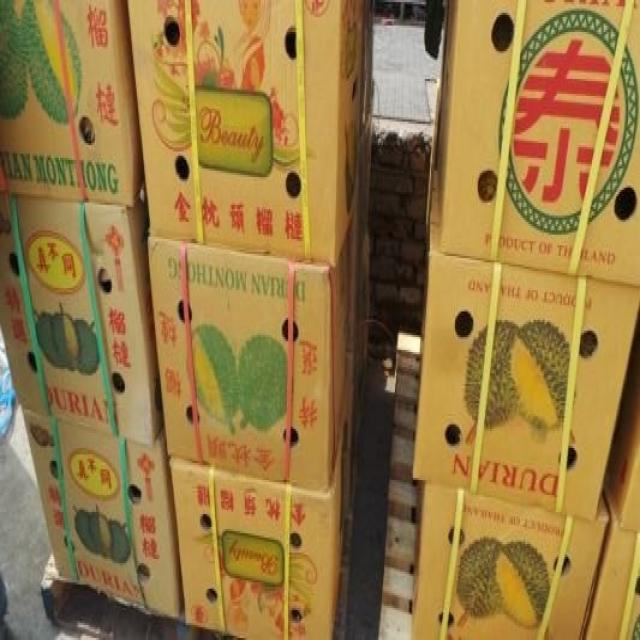box: (413, 164, 640, 523), (127, 0, 364, 267), (436, 0, 640, 288), (148, 230, 349, 493), (0, 183, 163, 448), (169, 418, 347, 640), (22, 407, 184, 621), (412, 480, 609, 640), (584, 465, 640, 640), (606, 303, 640, 531)
